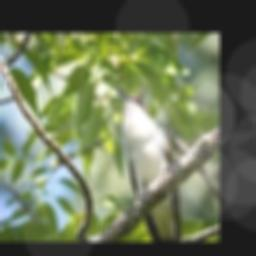Cuckoo: (115, 88, 181, 242)
